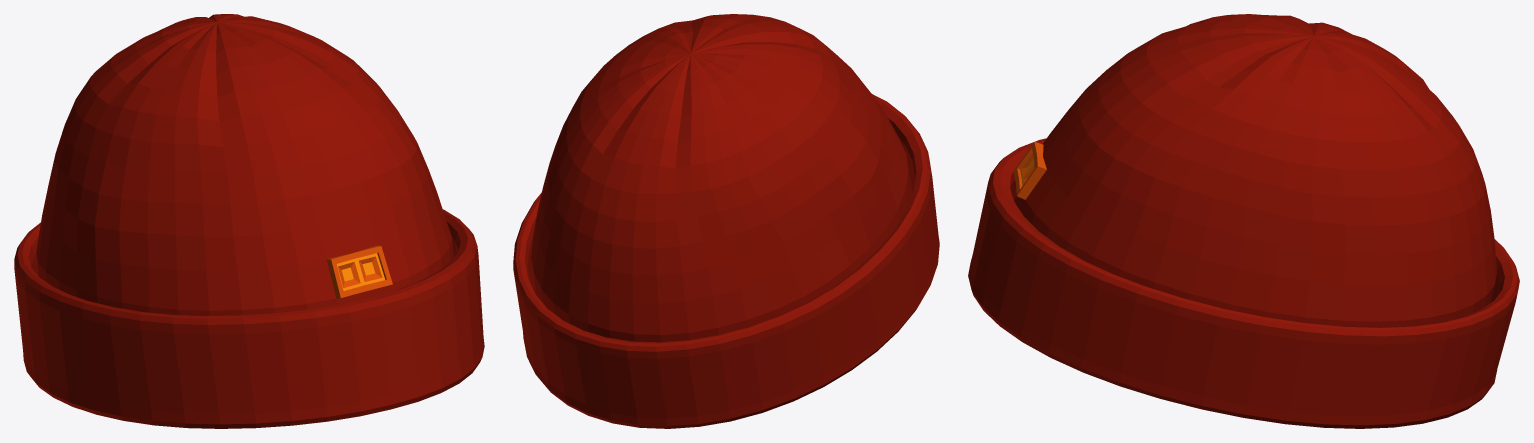
Rendered from Beanie.fbx.
3 views of the same model, side by side, from view 1: azimuth 30°, elevation 25°; view 2: azimuth 150°, elevation 25°; view 3: azimuth 270°, elevation 25° (orthographic). The views are drawn at different scales.
Parts seen in each view (by area): view 1: Beanie; view 2: Beanie; view 3: Beanie.
Boxes of the visible parts, x1,y1,x2,y2 form: Beanie: (14,14,484,428); Beanie: (513,14,939,428); Beanie: (968,14,1519,428).
Size of the model in its own units: 13971 by 12526 by 18231.
